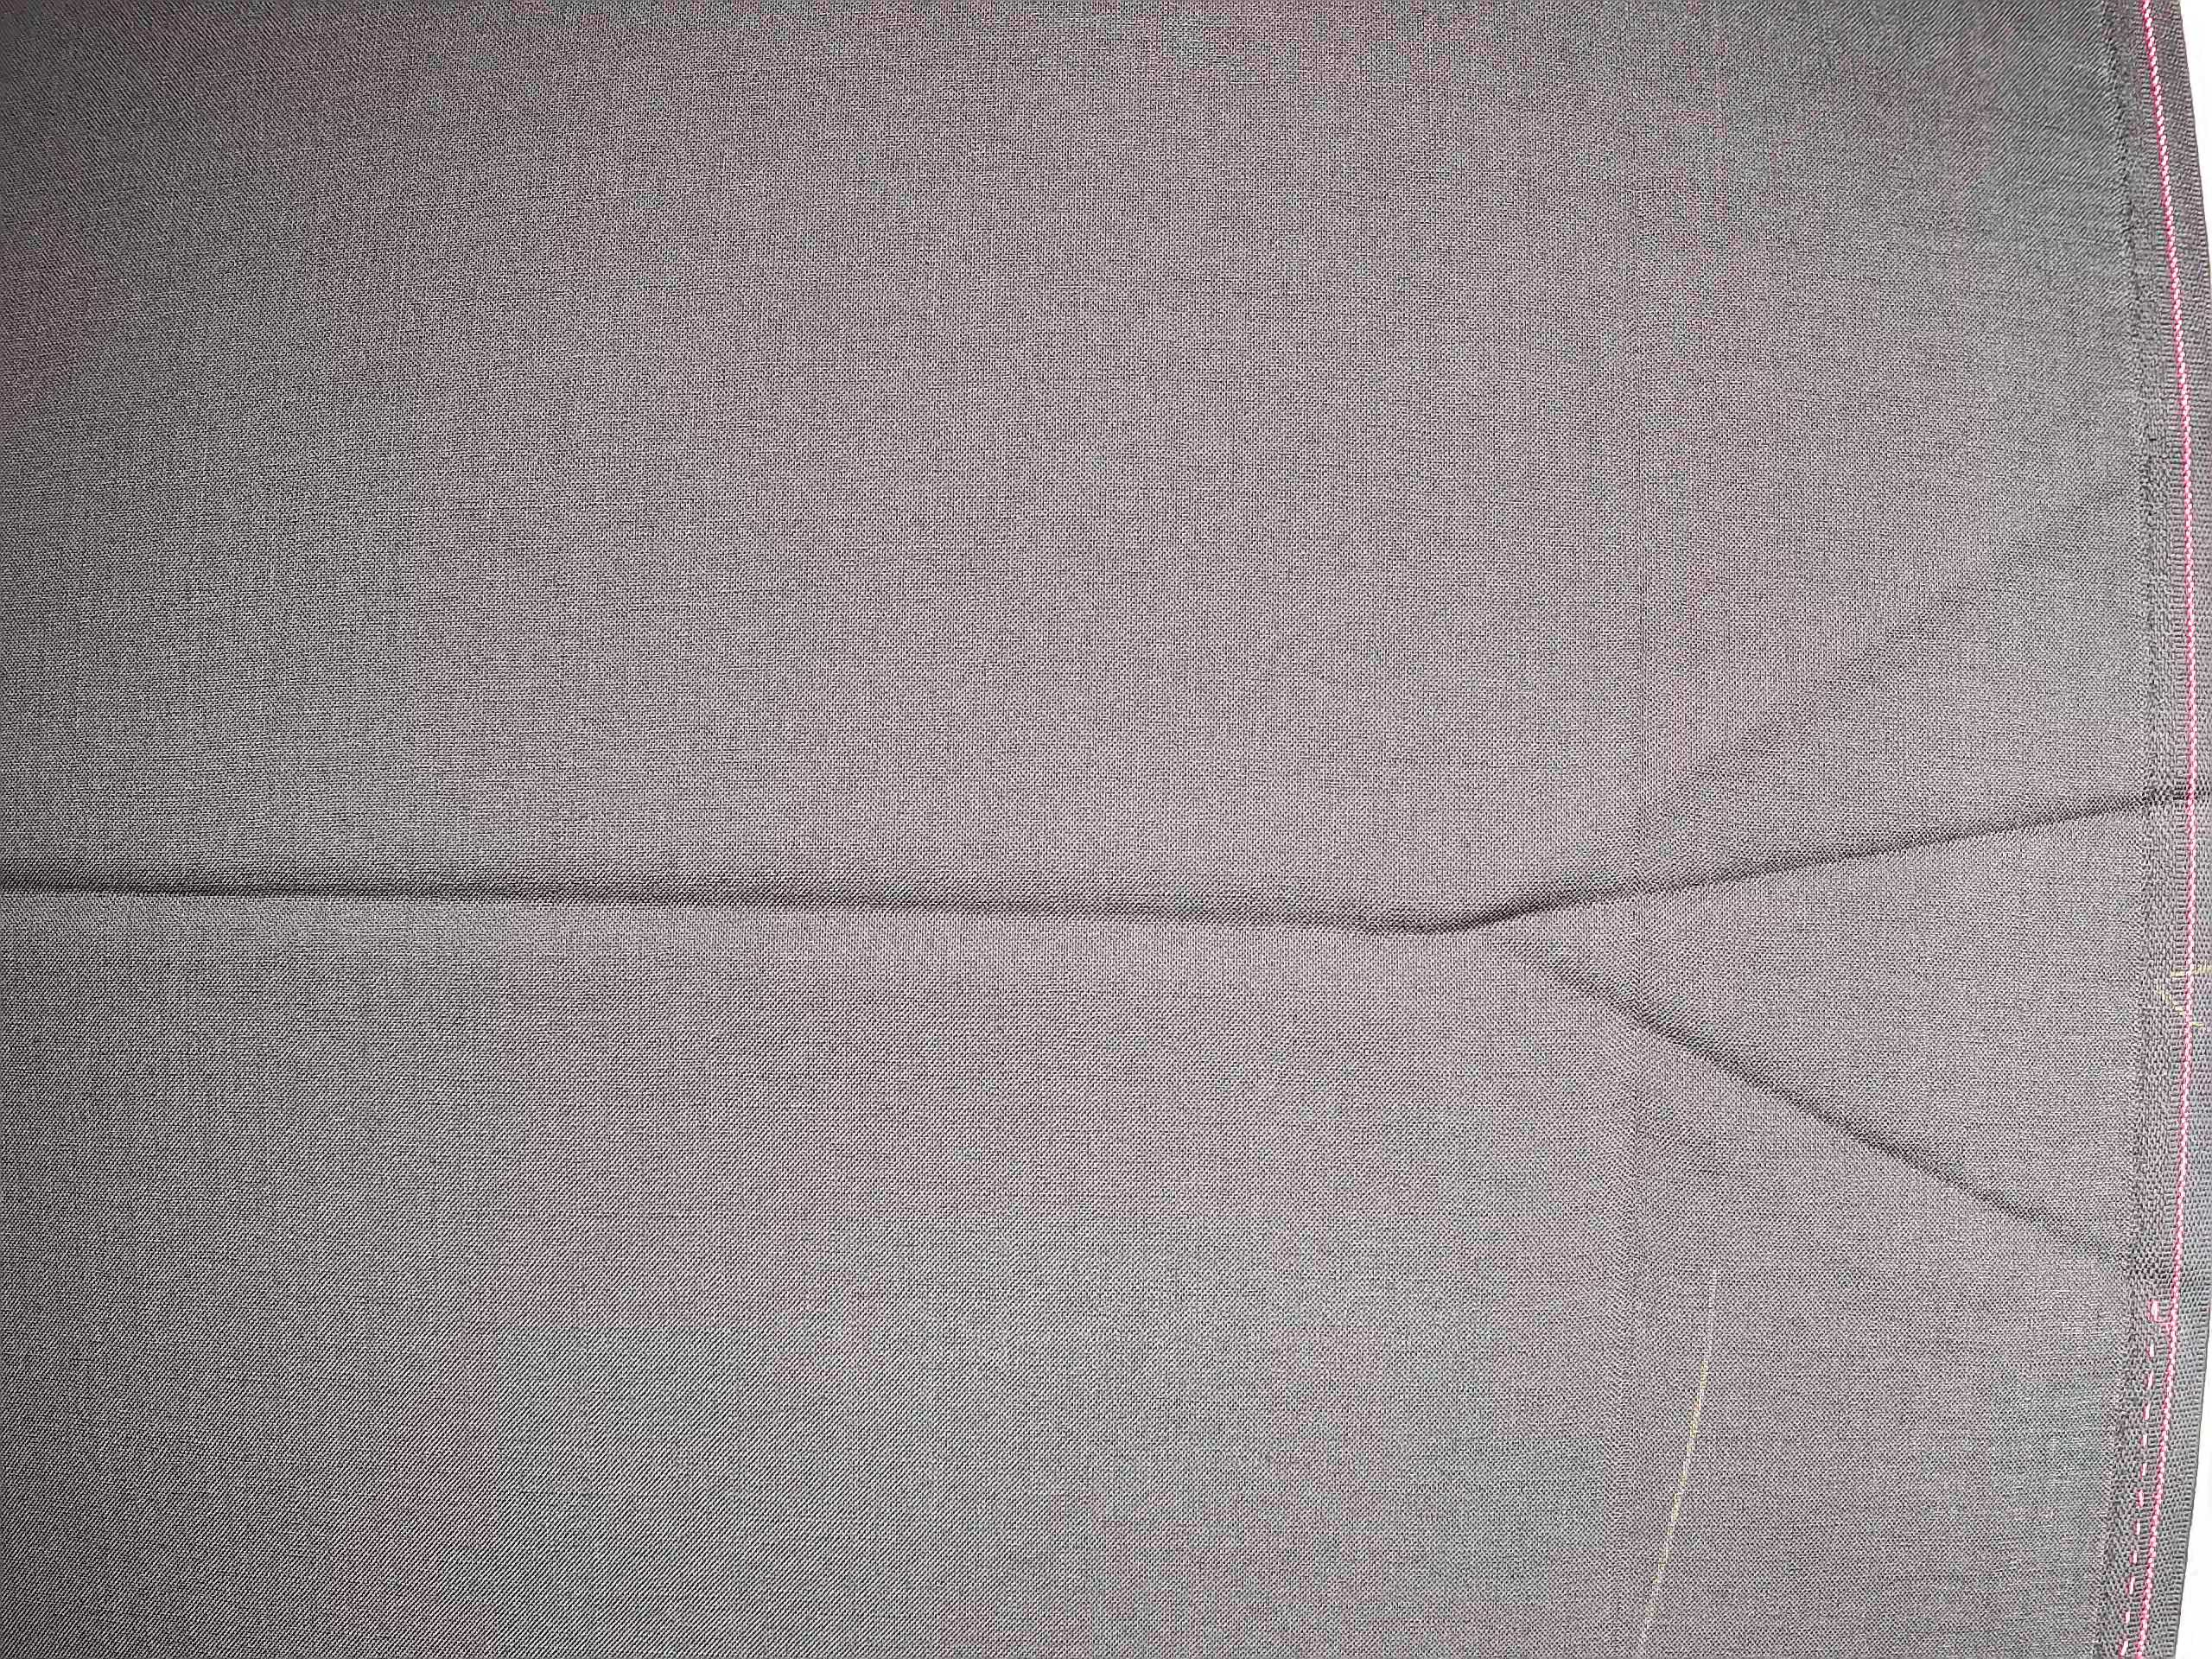hanging-warp: (1602, 12, 1662, 1654)
